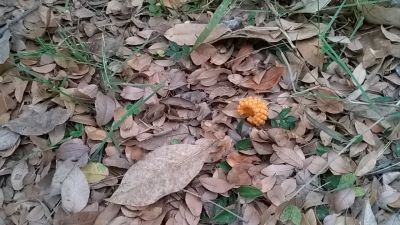eggs: (238, 94, 268, 127)
